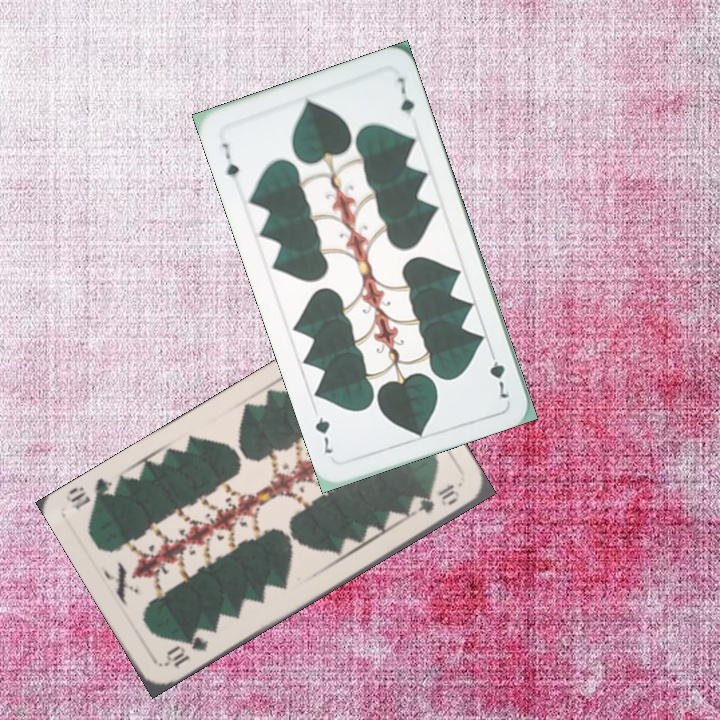G10: (161, 632, 212, 671)
G7: (485, 345, 512, 402), (217, 139, 242, 181)
